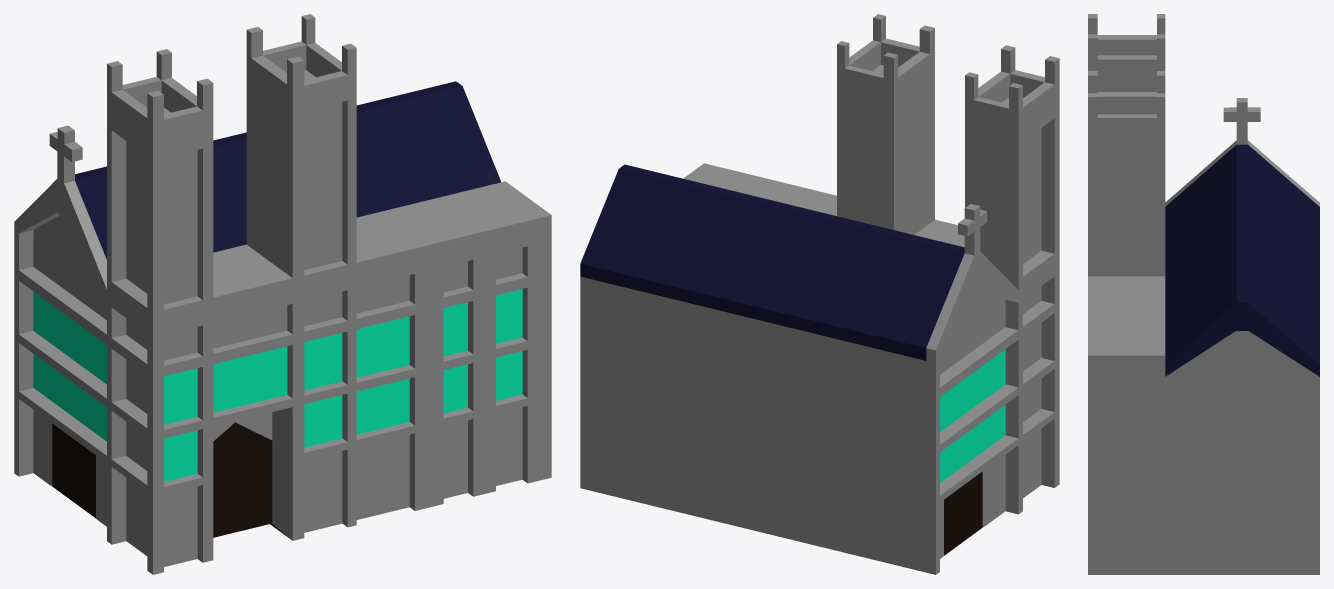
Rendered from MOD_Eglise.FBX.
The picture shows the model from 3 angles, left to right: view 1: azimuth 30°, elevation 25°; view 2: azimuth 150°, elevation 25°; view 3: azimuth 270°, elevation 25°; orthographic projection. The views are drawn at different scales.
Visible parts, largest first — view 1: Eglise; view 2: Eglise; view 3: Eglise.
Part boxes in pixels (left/top/right/bottom): Eglise: left=14, top=14, right=551, bottom=574; Eglise: left=580, top=14, right=1059, bottom=574; Eglise: left=1088, top=14, right=1319, bottom=574.
Size of the model in its own units: 49.74 by 56.95 by 30.
